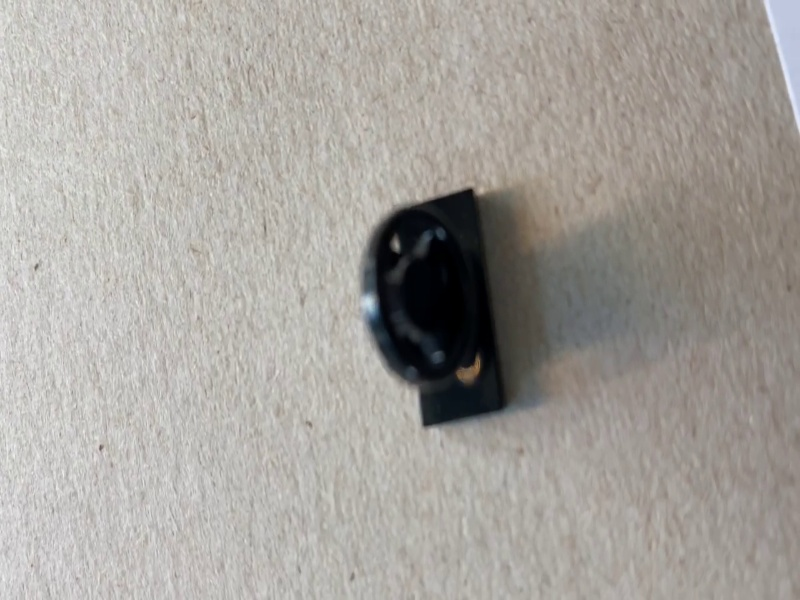steering wheel: (356, 185, 510, 427)
